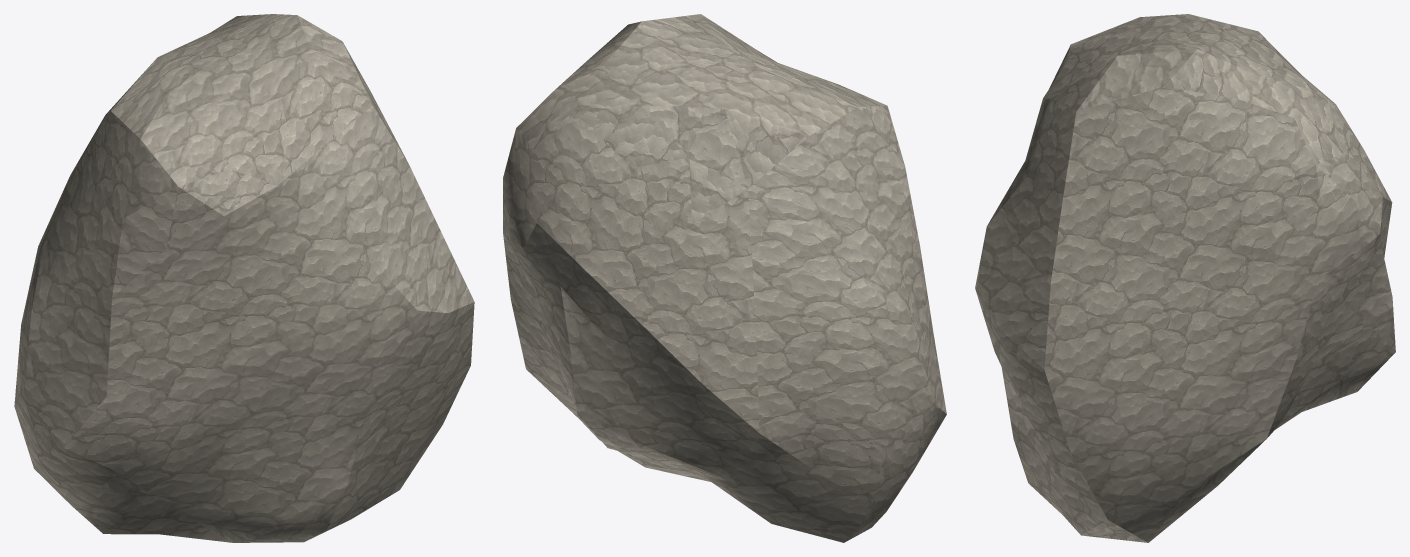
The model's file is grock_p.glb.
3 renders of one model, left to right at view 1: azimuth 30°, elevation 25°; view 2: azimuth 150°, elevation 25°; view 3: azimuth 270°, elevation 25°, orthographic. The views are drawn at different scales.
Parts seen in each view (by area): view 1: model; view 2: model; view 3: model.
Part boxes in pixels (<box>): model: <box>14,14,474,542</box>; model: <box>503,14,946,542</box>; model: <box>975,14,1395,542</box>.
Bounding box in the file's own units: 3.29 × 3.68 × 2.88.
Materials: 1 (1 with a texture image).
